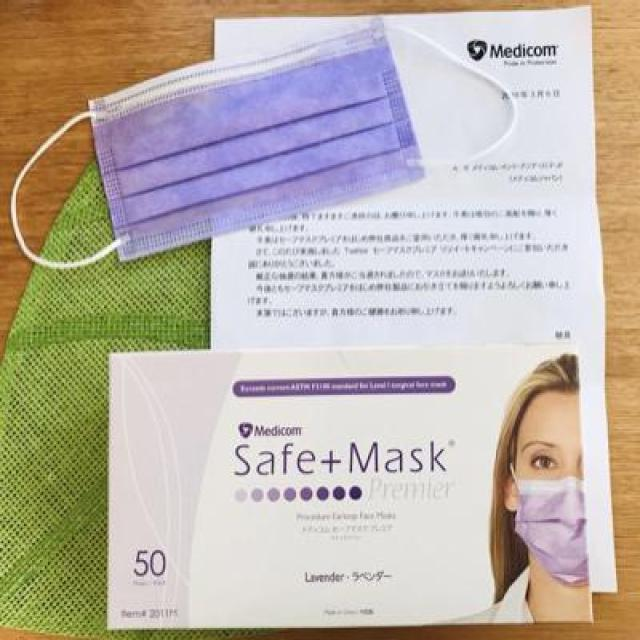with_mask: (515, 437, 588, 588)
